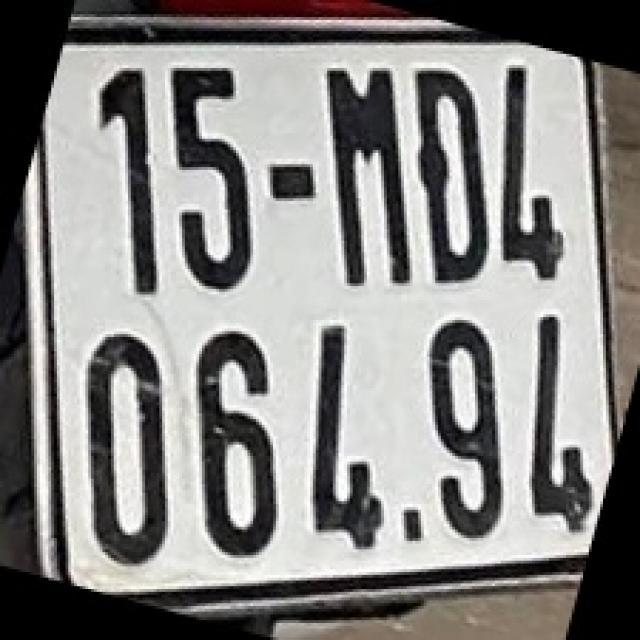0: (80, 328, 176, 558)
1: (94, 65, 165, 297)
4: (298, 320, 396, 558), (518, 311, 608, 541), (495, 70, 572, 284)
5: (168, 60, 256, 292)
6: (184, 326, 284, 560)
9: (415, 312, 512, 544)
D: (410, 59, 492, 289)
M: (316, 48, 410, 286)
